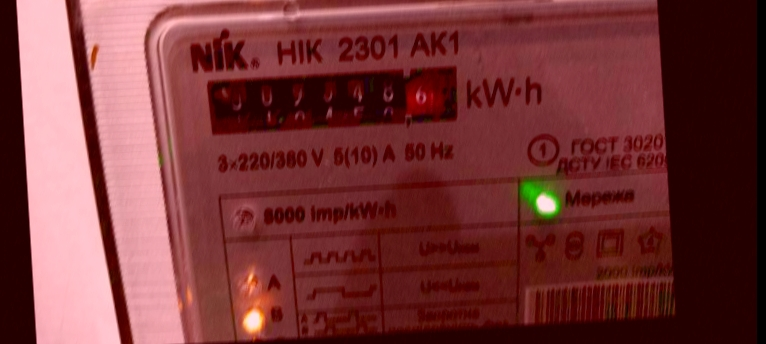0: (226, 84, 241, 111), (256, 82, 272, 106)
3: (317, 78, 332, 104)
4: (347, 76, 362, 104)
6: (409, 79, 428, 107)
8: (377, 75, 393, 104)
9: (286, 80, 302, 107)
screen: (194, 59, 467, 144)
